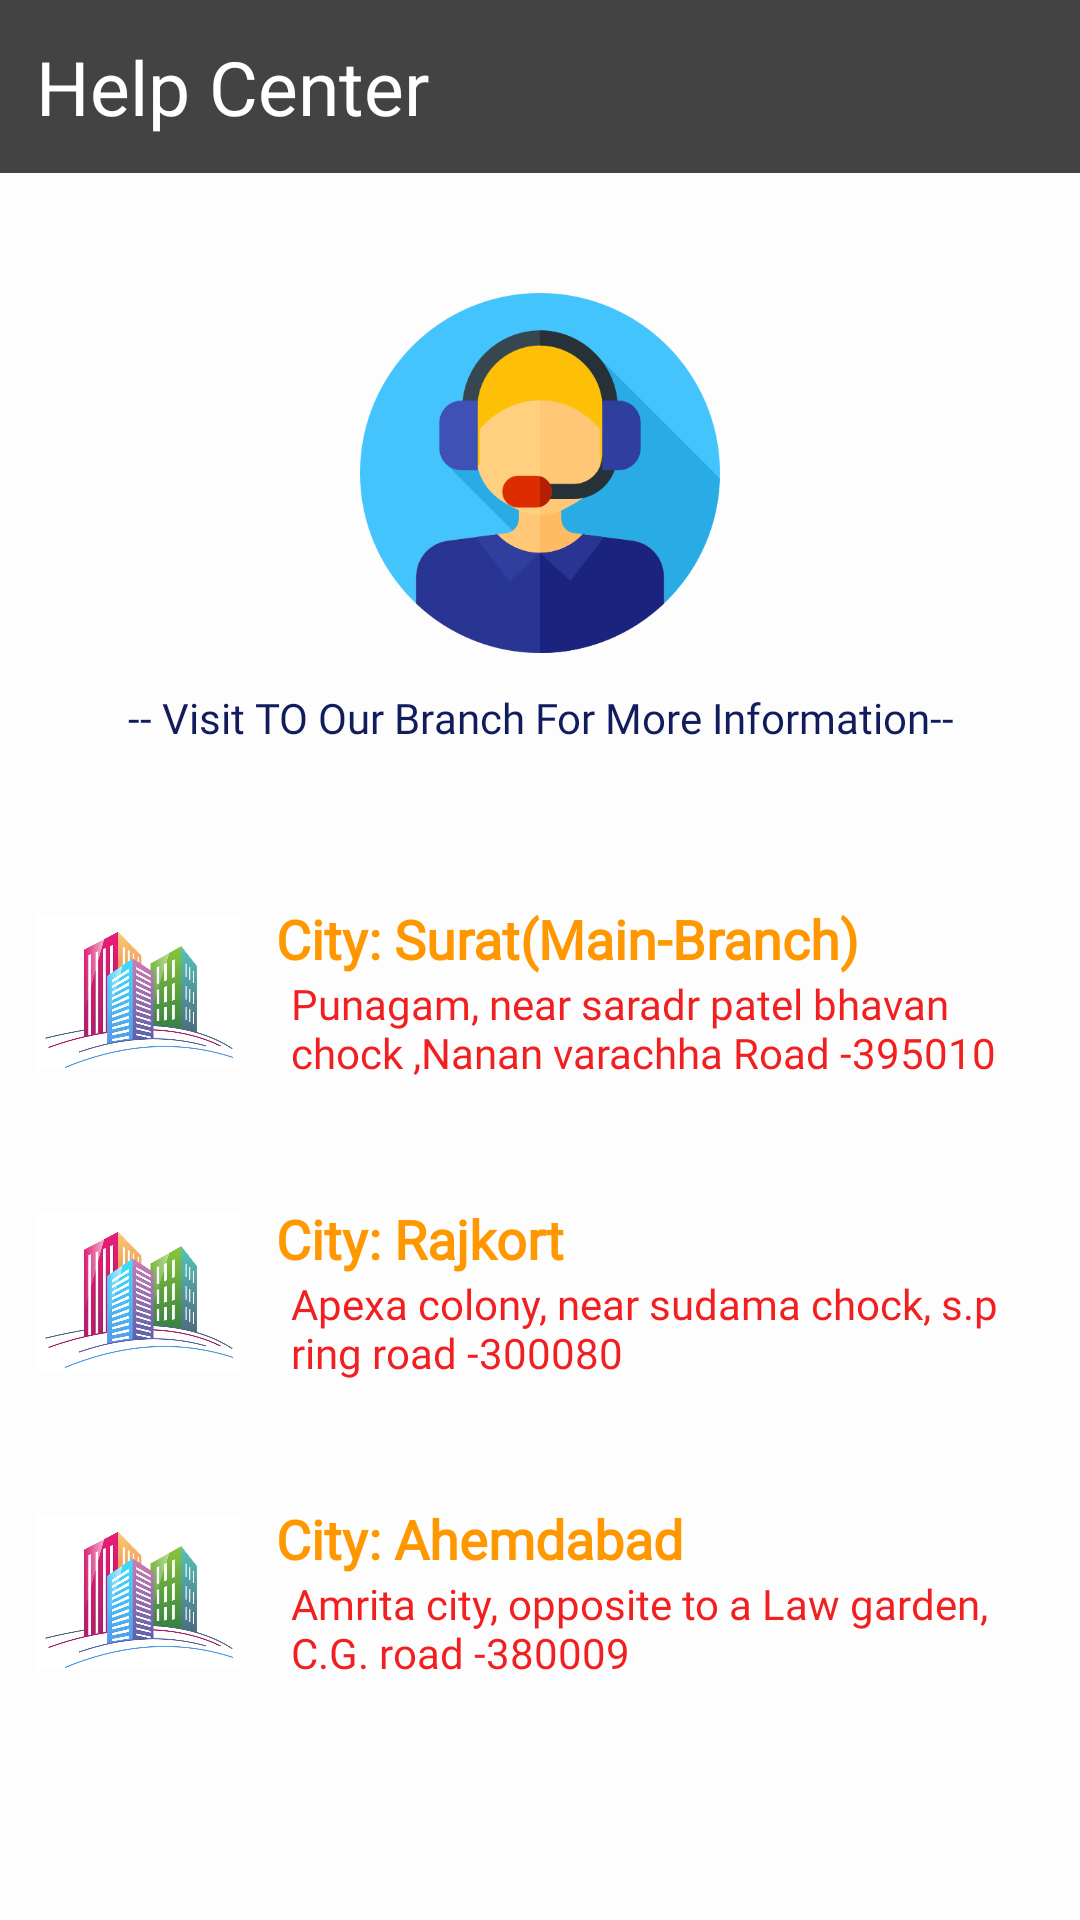

Named icons in this screenshot (1080×1920) and their centers, point (x, y):
helpcenter branch department: point (139, 1000), point (139, 1300), point (139, 1600)
